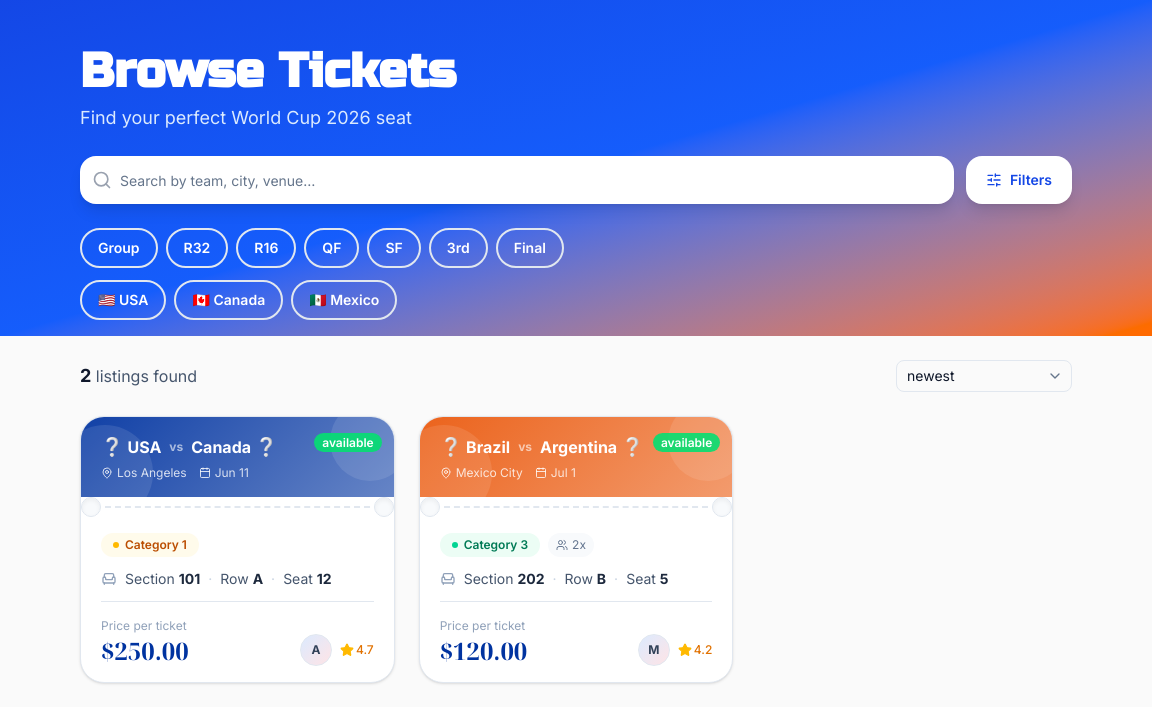
Scenario: BrowsePage › shows active filter chips and allows clearing them
What coordinates should you click on to do the following:
click the button with test id "stage-chip-GROUP"
I would click on:
 (119, 248)
Its box is [80,228,158,268].
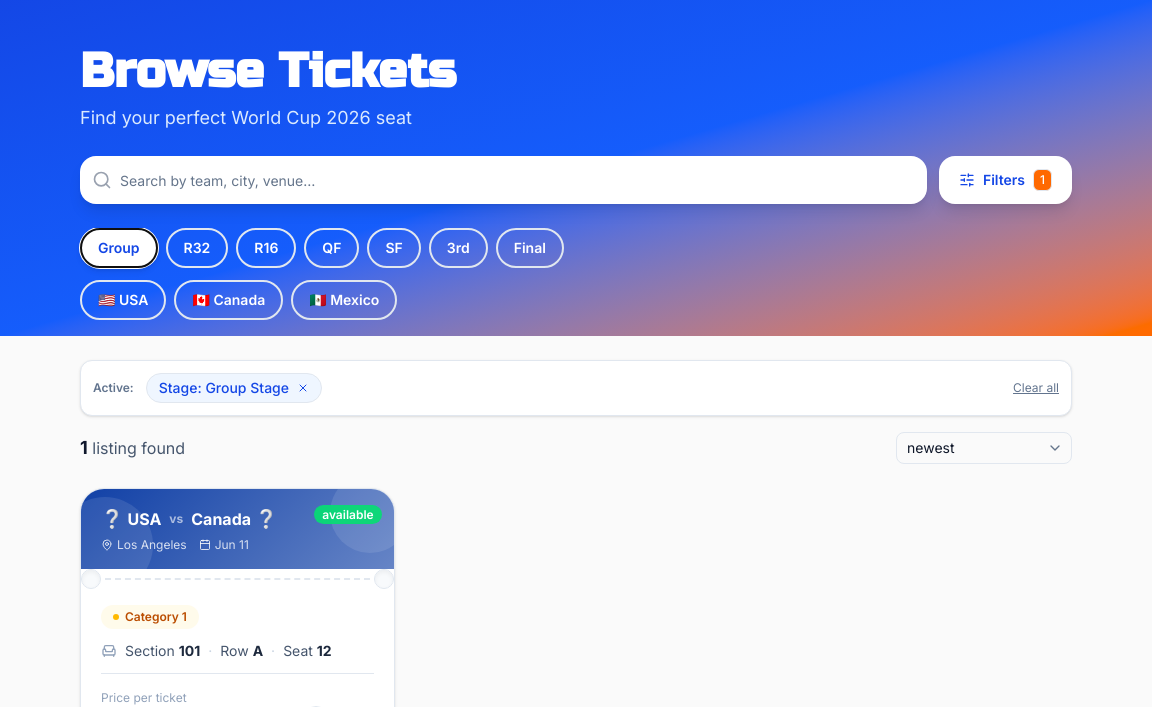
Check: the text "Stage: Group Stage" is shown, box [146,373,322,403]
Note: Click X on the chip to remove it
What coordinates should you click on to do the following:
click the button named "remove stage: group stage filter"
I would click on:
 (303, 388)
Its box is [297,382,309,394].
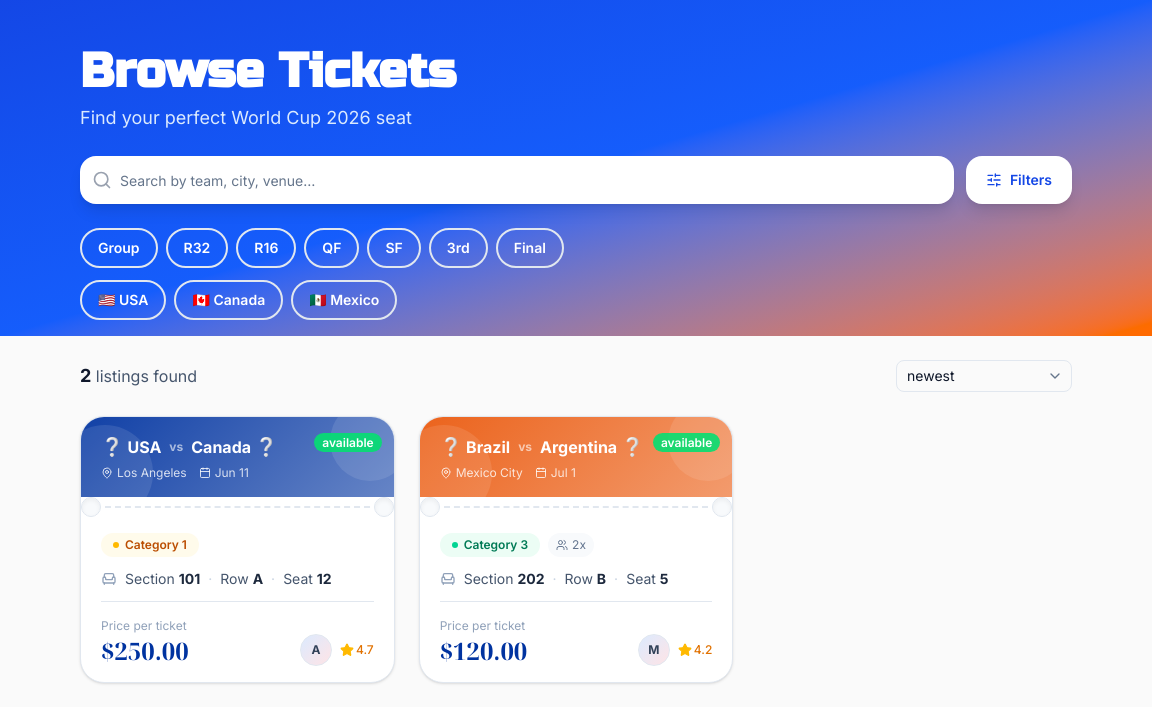
Check: the element with test id "results-count" reads "2 listings found", box [80,362,197,390]
